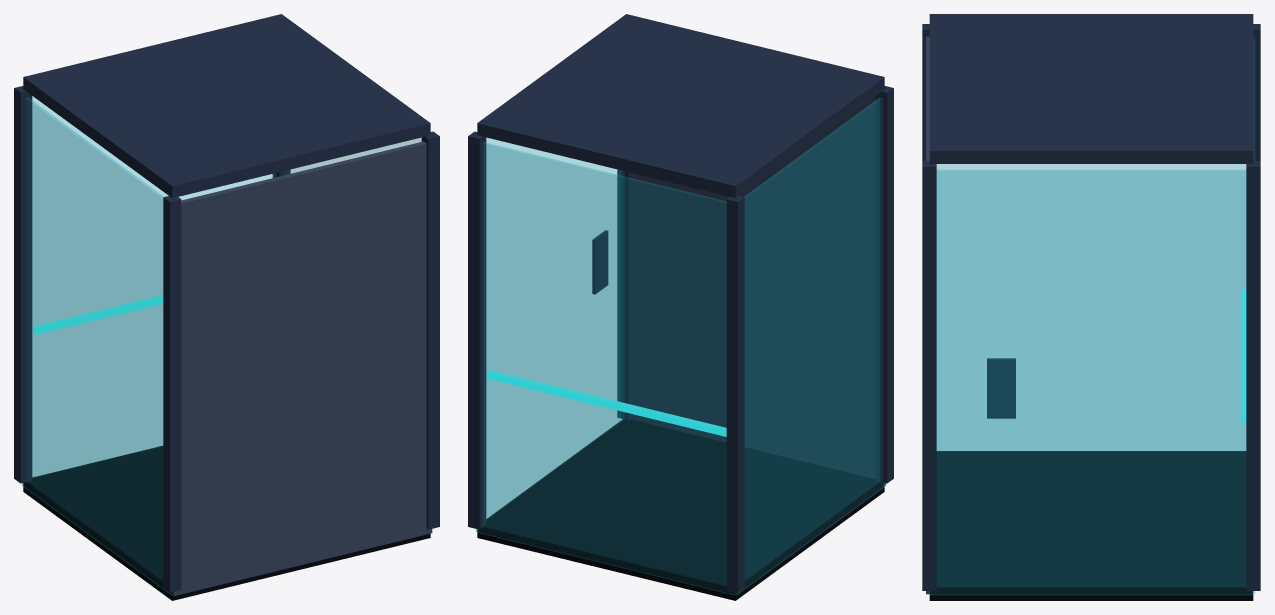
The model's file is Ascensor.fbx.
The picture shows the model from 3 angles, left to right: view 1: azimuth 30°, elevation 25°; view 2: azimuth 150°, elevation 25°; view 3: azimuth 270°, elevation 25°; orthographic projection. The views are drawn at different scales.
Visible parts, largest first — view 1: Cabina, Vidrios, Puerta_Der, Puerta_Izq; view 2: Vidrios, Cabina, Puerta_Izq, Puerta_Der; view 3: Vidrios, Cabina.
Boxes of the visible parts, x1,y1,x2,y2 form: Cabina: (14, 14, 439, 600); Vidrios: (22, 96, 421, 594); Puerta_Der: (300, 141, 432, 564); Puerta_Izq: (172, 171, 303, 595); Vidrios: (476, 98, 885, 595); Cabina: (468, 14, 893, 600); Puerta_Izq: (754, 96, 885, 486); Puerta_Der: (630, 172, 753, 449); Vidrios: (930, 37, 1254, 594); Cabina: (922, 14, 1260, 600).
Size of the model in its own units: 1.88 by 2.76 by 1.88.
